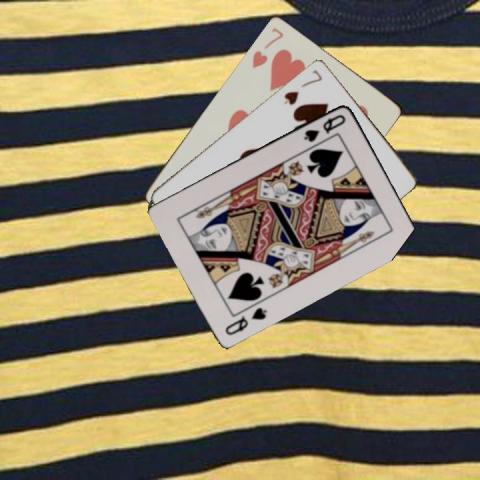7h: (249, 24, 285, 69)
7s: (281, 66, 324, 106)
Qs: (222, 304, 268, 337), (301, 111, 347, 143)
